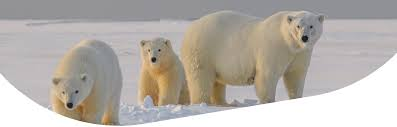PolarBear: (176, 5, 318, 104)
